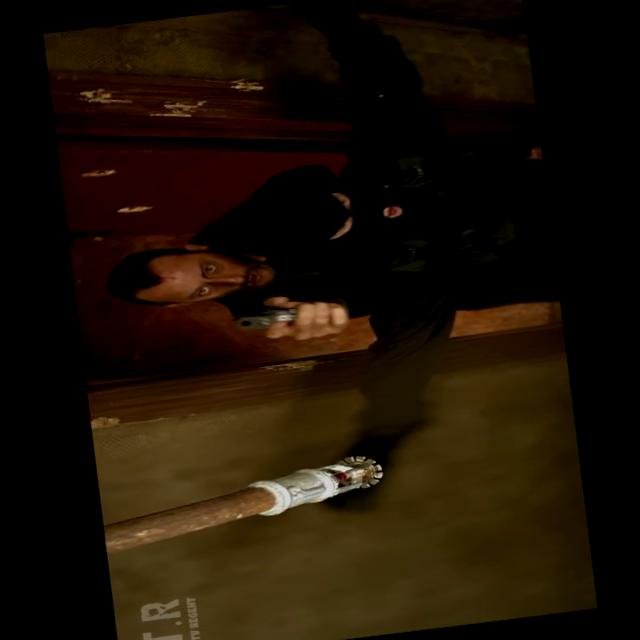handgun: (208, 274, 374, 358)
